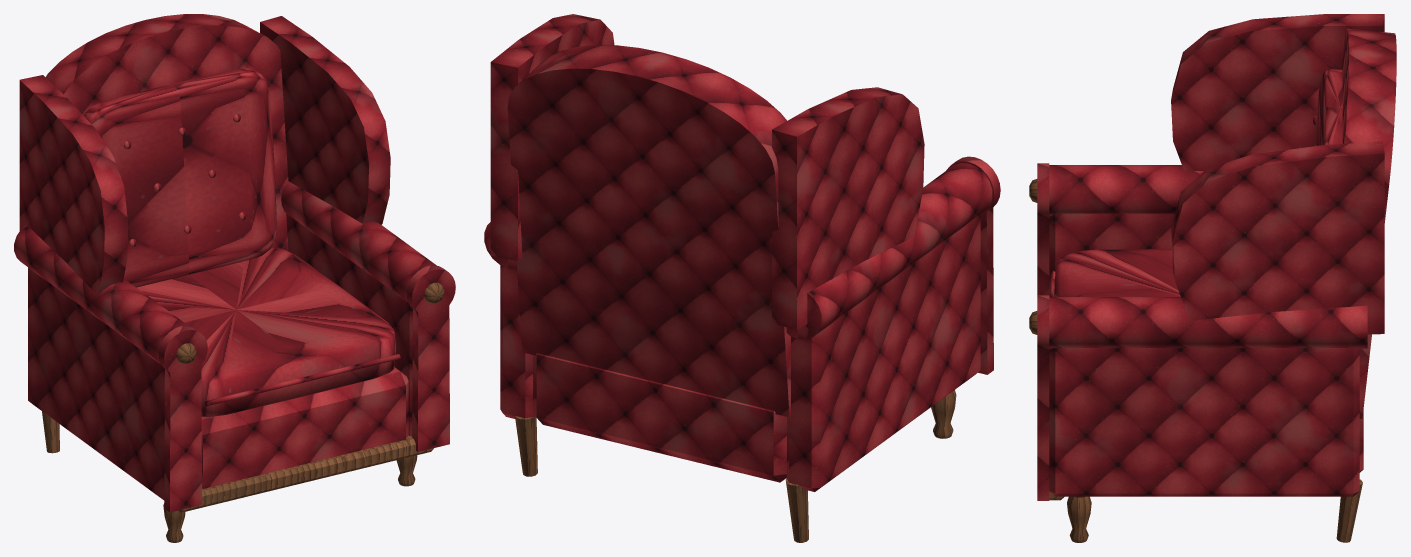
Rendered from lib_armchair.obj.
3 renders of one model, left to right at view 1: azimuth 30°, elevation 25°; view 2: azimuth 150°, elevation 25°; view 3: azimuth 270°, elevation 25°, orthographic. The views are drawn at different scales.
Parts seen in each view (by area): view 1: lib_armchair_velvet_red, lib_armchair_wood_dark; view 2: lib_armchair_velvet_red, lib_armchair_wood_dark; view 3: lib_armchair_velvet_red, lib_armchair_wood_dark.
Part boxes in pixels (x1,y1,x2,y2): lib_armchair_velvet_red: [14, 14, 455, 512]; lib_armchair_wood_dark: [42, 282, 444, 542]; lib_armchair_velvet_red: [484, 14, 1000, 491]; lib_armchair_wood_dark: [515, 390, 956, 542]; lib_armchair_velvet_red: [1037, 14, 1396, 500]; lib_armchair_wood_dark: [1029, 179, 1362, 542].
Size of the model in its own units: 0.9 by 1.15 by 0.9.
2 materials, 2 textured.
